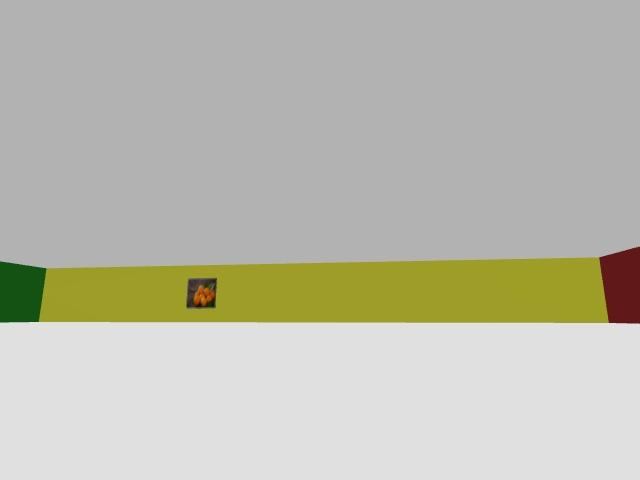orange: (200, 297, 208, 307), (194, 295, 200, 306), (207, 292, 213, 302), (194, 292, 201, 299), (202, 288, 209, 295), (197, 285, 203, 292), (208, 290, 214, 296), (210, 290, 215, 297)
